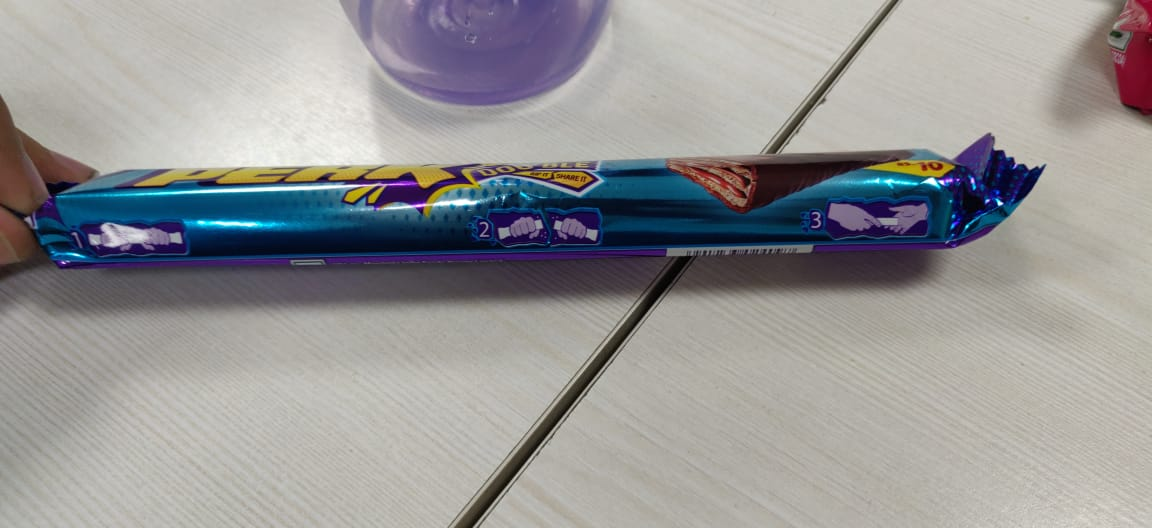perk: (27, 121, 1058, 294)
